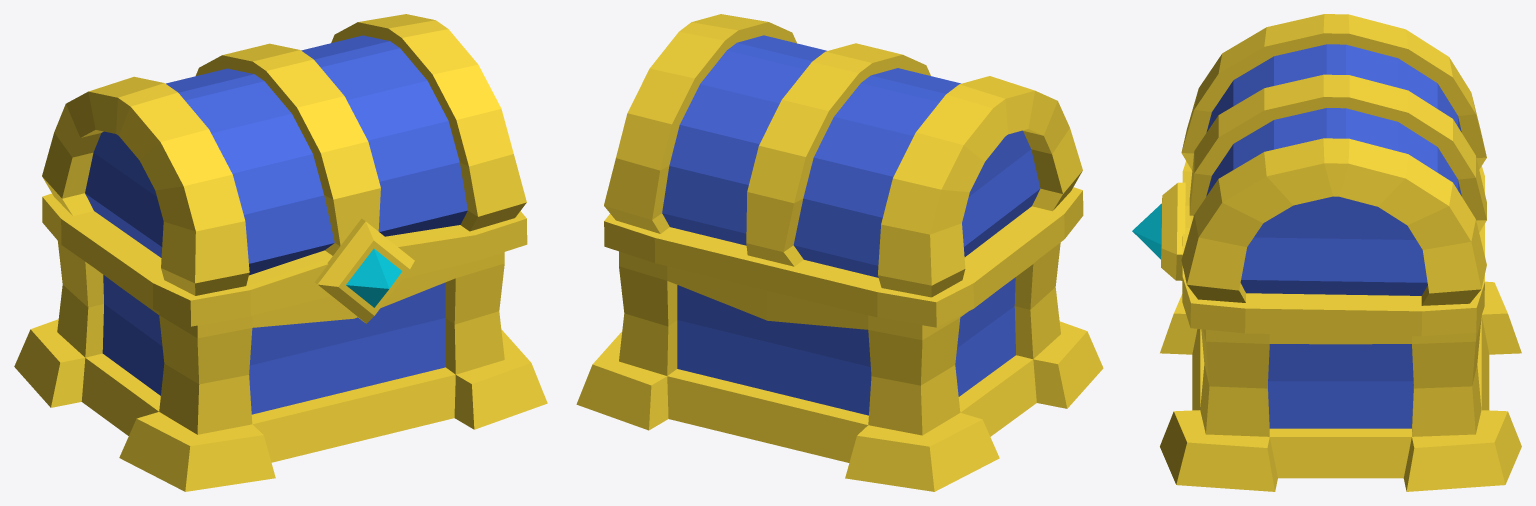
Rendered from cofre.fbx.
3 renders of one model, left to right at view 1: azimuth 30°, elevation 25°; view 2: azimuth 150°, elevation 25°; view 3: azimuth 270°, elevation 25°, orthographic. The views are drawn at different scales.
Visible parts, largest first — view 1: tapa, base; view 2: tapa, base; view 3: tapa, base.
Boxes of the visible parts, <box> form: tapa: <box>42,14,527,326</box>; base: <box>14,241,547,491</box>; tapa: <box>604,14,1083,327</box>; base: <box>576,242,1103,491</box>; tapa: <box>1132,14,1486,336</box>; base: <box>1160,281,1521,491</box>.
Bounding box in the file's own units: 503 × 401 × 451.
